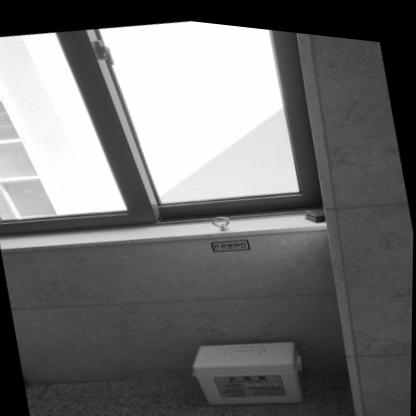DDL: (190, 321, 308, 414)
